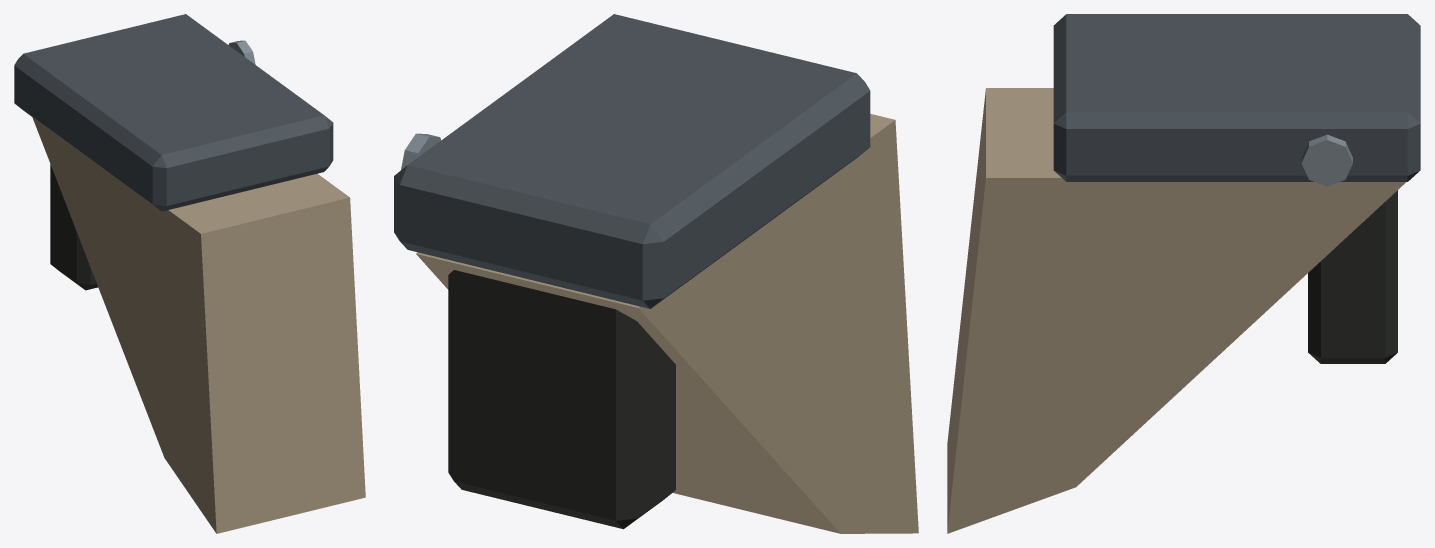
The model's file is att_grip_mlok_stop.glb.
3 renders of one model, left to right at view 1: azimuth 30°, elevation 25°; view 2: azimuth 150°, elevation 25°; view 3: azimuth 270°, elevation 25°, orthographic. The views are drawn at different scales.
Visible parts, largest first — view 1: Geometry_att_grip_mlok_stop; view 2: Geometry_att_grip_mlok_stop; view 3: Geometry_att_grip_mlok_stop.
Boxes of the visible parts, x1,y1,x2,y2 form: Geometry_att_grip_mlok_stop: (14,14,365,533); Geometry_att_grip_mlok_stop: (394,14,918,533); Geometry_att_grip_mlok_stop: (947,14,1420,533).
Size of the model in its own units: 0.044 by 0.073 by 0.0735.
